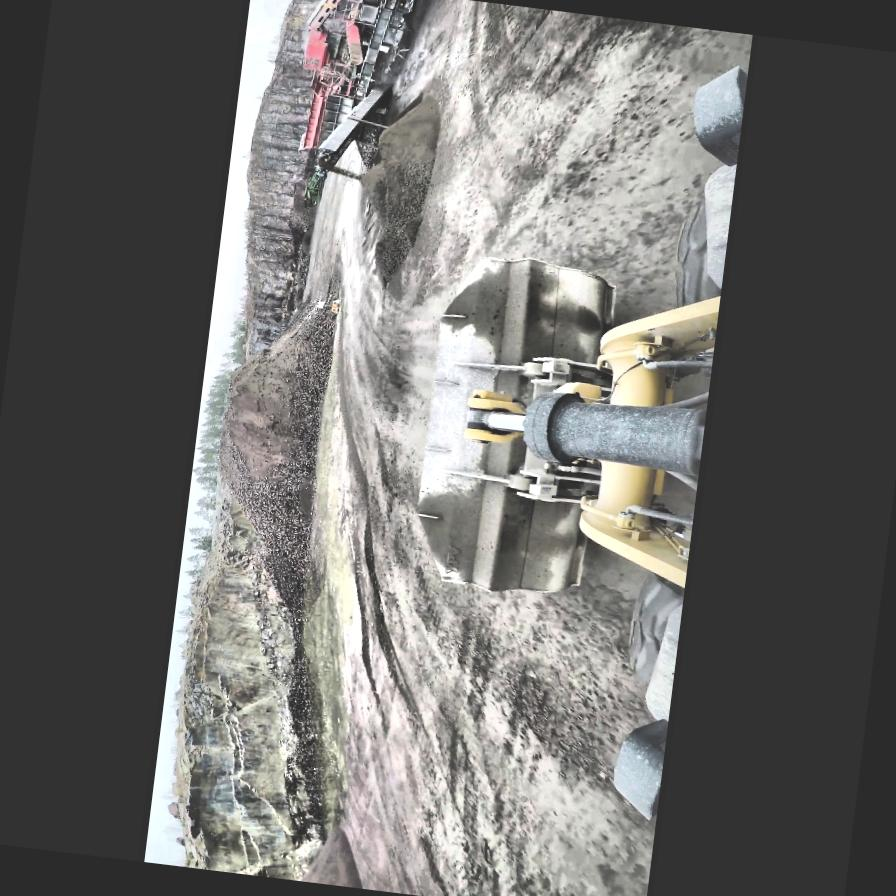anchor: (460, 388, 528, 447)
pile of gravel: (198, 300, 342, 611), (336, 89, 444, 261), (288, 814, 382, 890), (370, 180, 428, 285)
